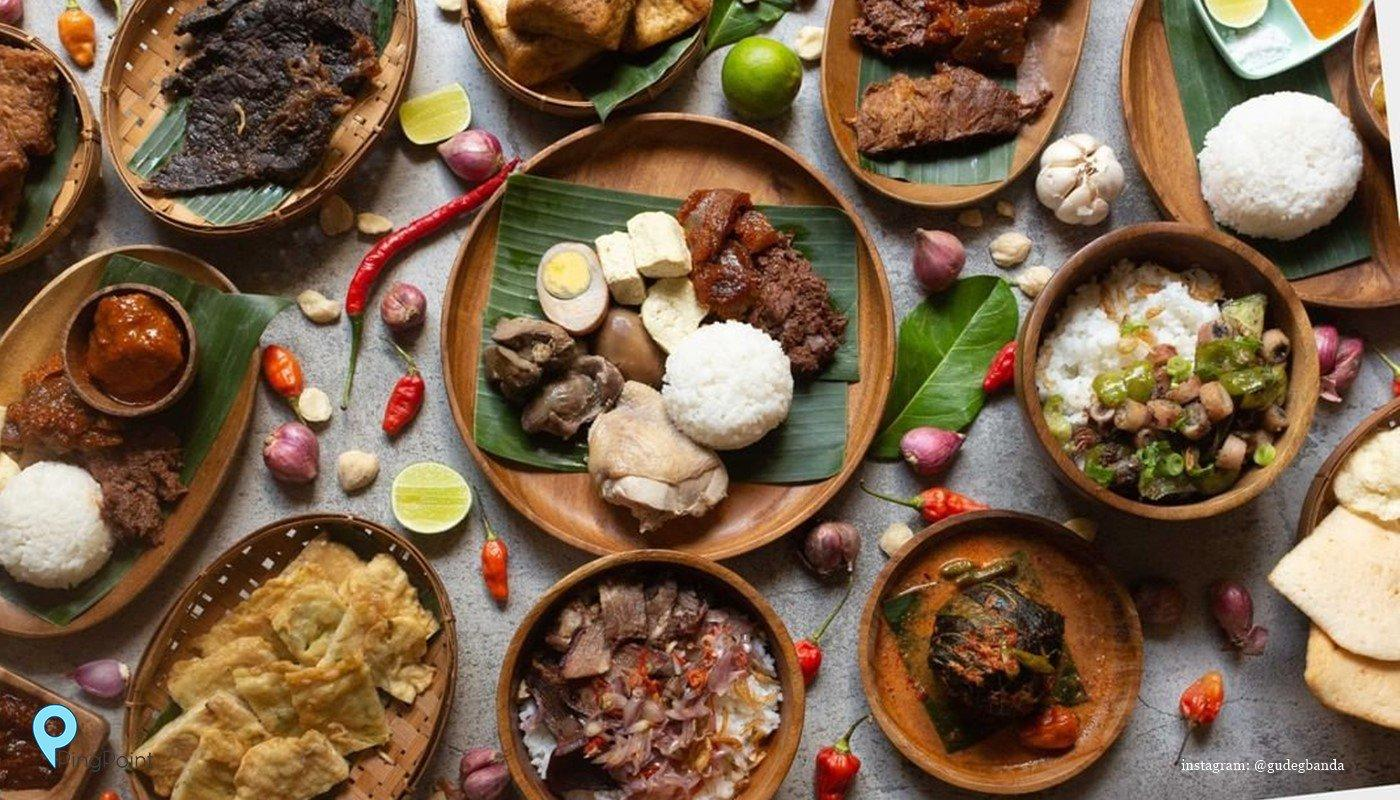gudeg: (482, 190, 849, 530)
